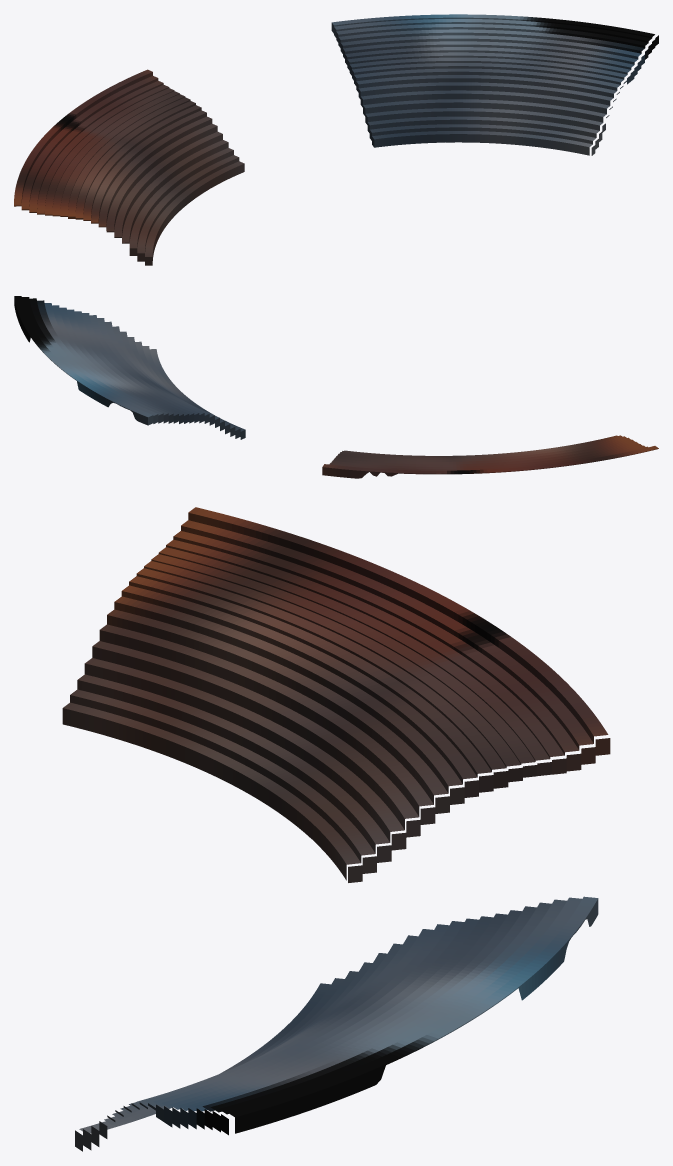
Rendered from SM_Basamak.glb.
3 views of the same model, one above another, from view 1: azimuth 30°, elevation 25°; view 2: azimuth 150°, elevation 25°; view 3: azimuth 270°, elevation 25° (orthographic). The views are drawn at different scales.
Visible parts, largest first — view 1: SM_Basamak; view 2: SM_Basamak; view 3: SM_Basamak.
Boxes of the visible parts, x1,y1,x2,y2 form: SM_Basamak: [14, 14, 658, 265]; SM_Basamak: [14, 296, 658, 478]; SM_Basamak: [62, 507, 610, 1151].
Bounding box in the file's own units: 73.43 × 7.1 × 27.35.
